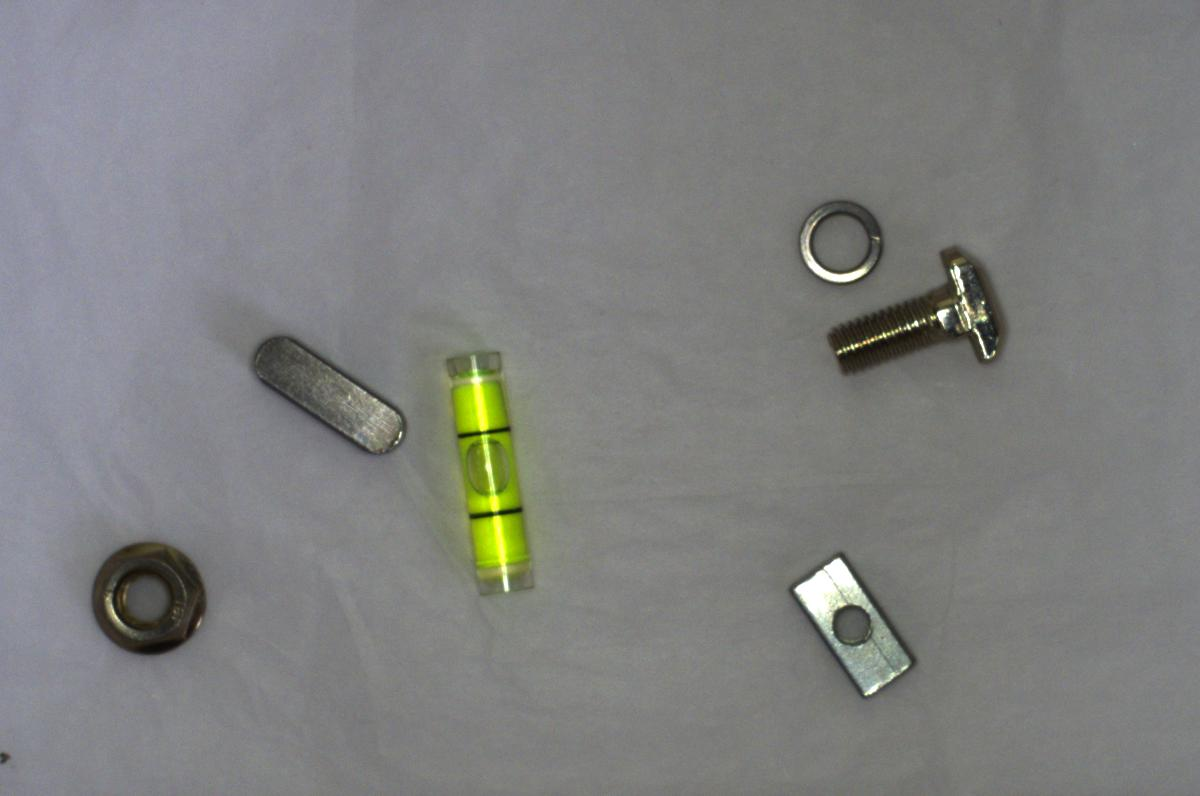Flange nut: (78, 528, 214, 661)
Horizontal bubble: (431, 341, 550, 614)
Keybar: (245, 330, 412, 458)
Rectangular nut: (791, 548, 919, 699)
Spring washer: (787, 196, 895, 292)
T-shaped screw: (808, 247, 1010, 382)
